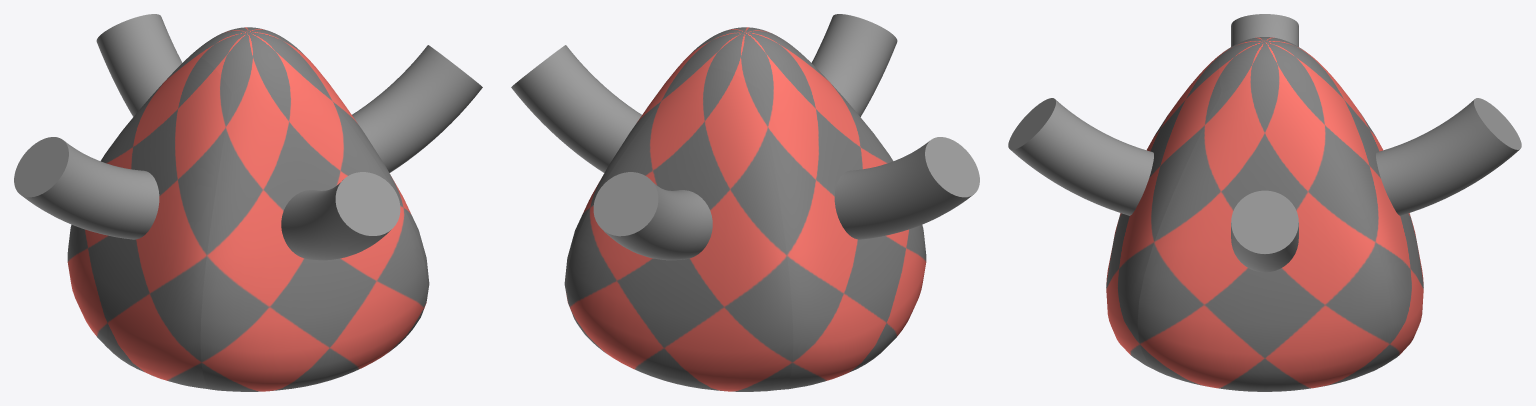
File: Body(Pyramidal)+Colour(More_Red)+Pattern(Diamond)+Arm_Angle(Bent_Up).fbx
3 renders of one model, left to right at view 1: azimuth 30°, elevation 25°; view 2: azimuth 150°, elevation 25°; view 3: azimuth 270°, elevation 25°, orthographic. The views are drawn at different scales.
Parts seen in each view (by area): view 1: Body(Pyramidal)+Colour(More_Red)+Pattern(Diamond)+Arm_Angle( (×5); view 2: Body(Pyramidal)+Colour(More_Red)+Pattern(Diamond)+Arm_Angle( (×5); view 3: Body(Pyramidal)+Colour(More_Red)+Pattern(Diamond)+Arm_Angle( (×5).
Boxes of the visible parts, x1,y1,x2,y2 form: Body(Pyramidal)+Colour(More_Red)+Pattern(Diamond)+Arm_Angle( (×5): (14,14,482,391); Body(Pyramidal)+Colour(More_Red)+Pattern(Diamond)+Arm_Angle( (×5): (511,14,979,391); Body(Pyramidal)+Colour(More_Red)+Pattern(Diamond)+Arm_Angle( (×5): (1008,14,1521,391).
Size of the model in its own units: 60.67 by 40 by 60.67.
2 materials, 1 textured.
